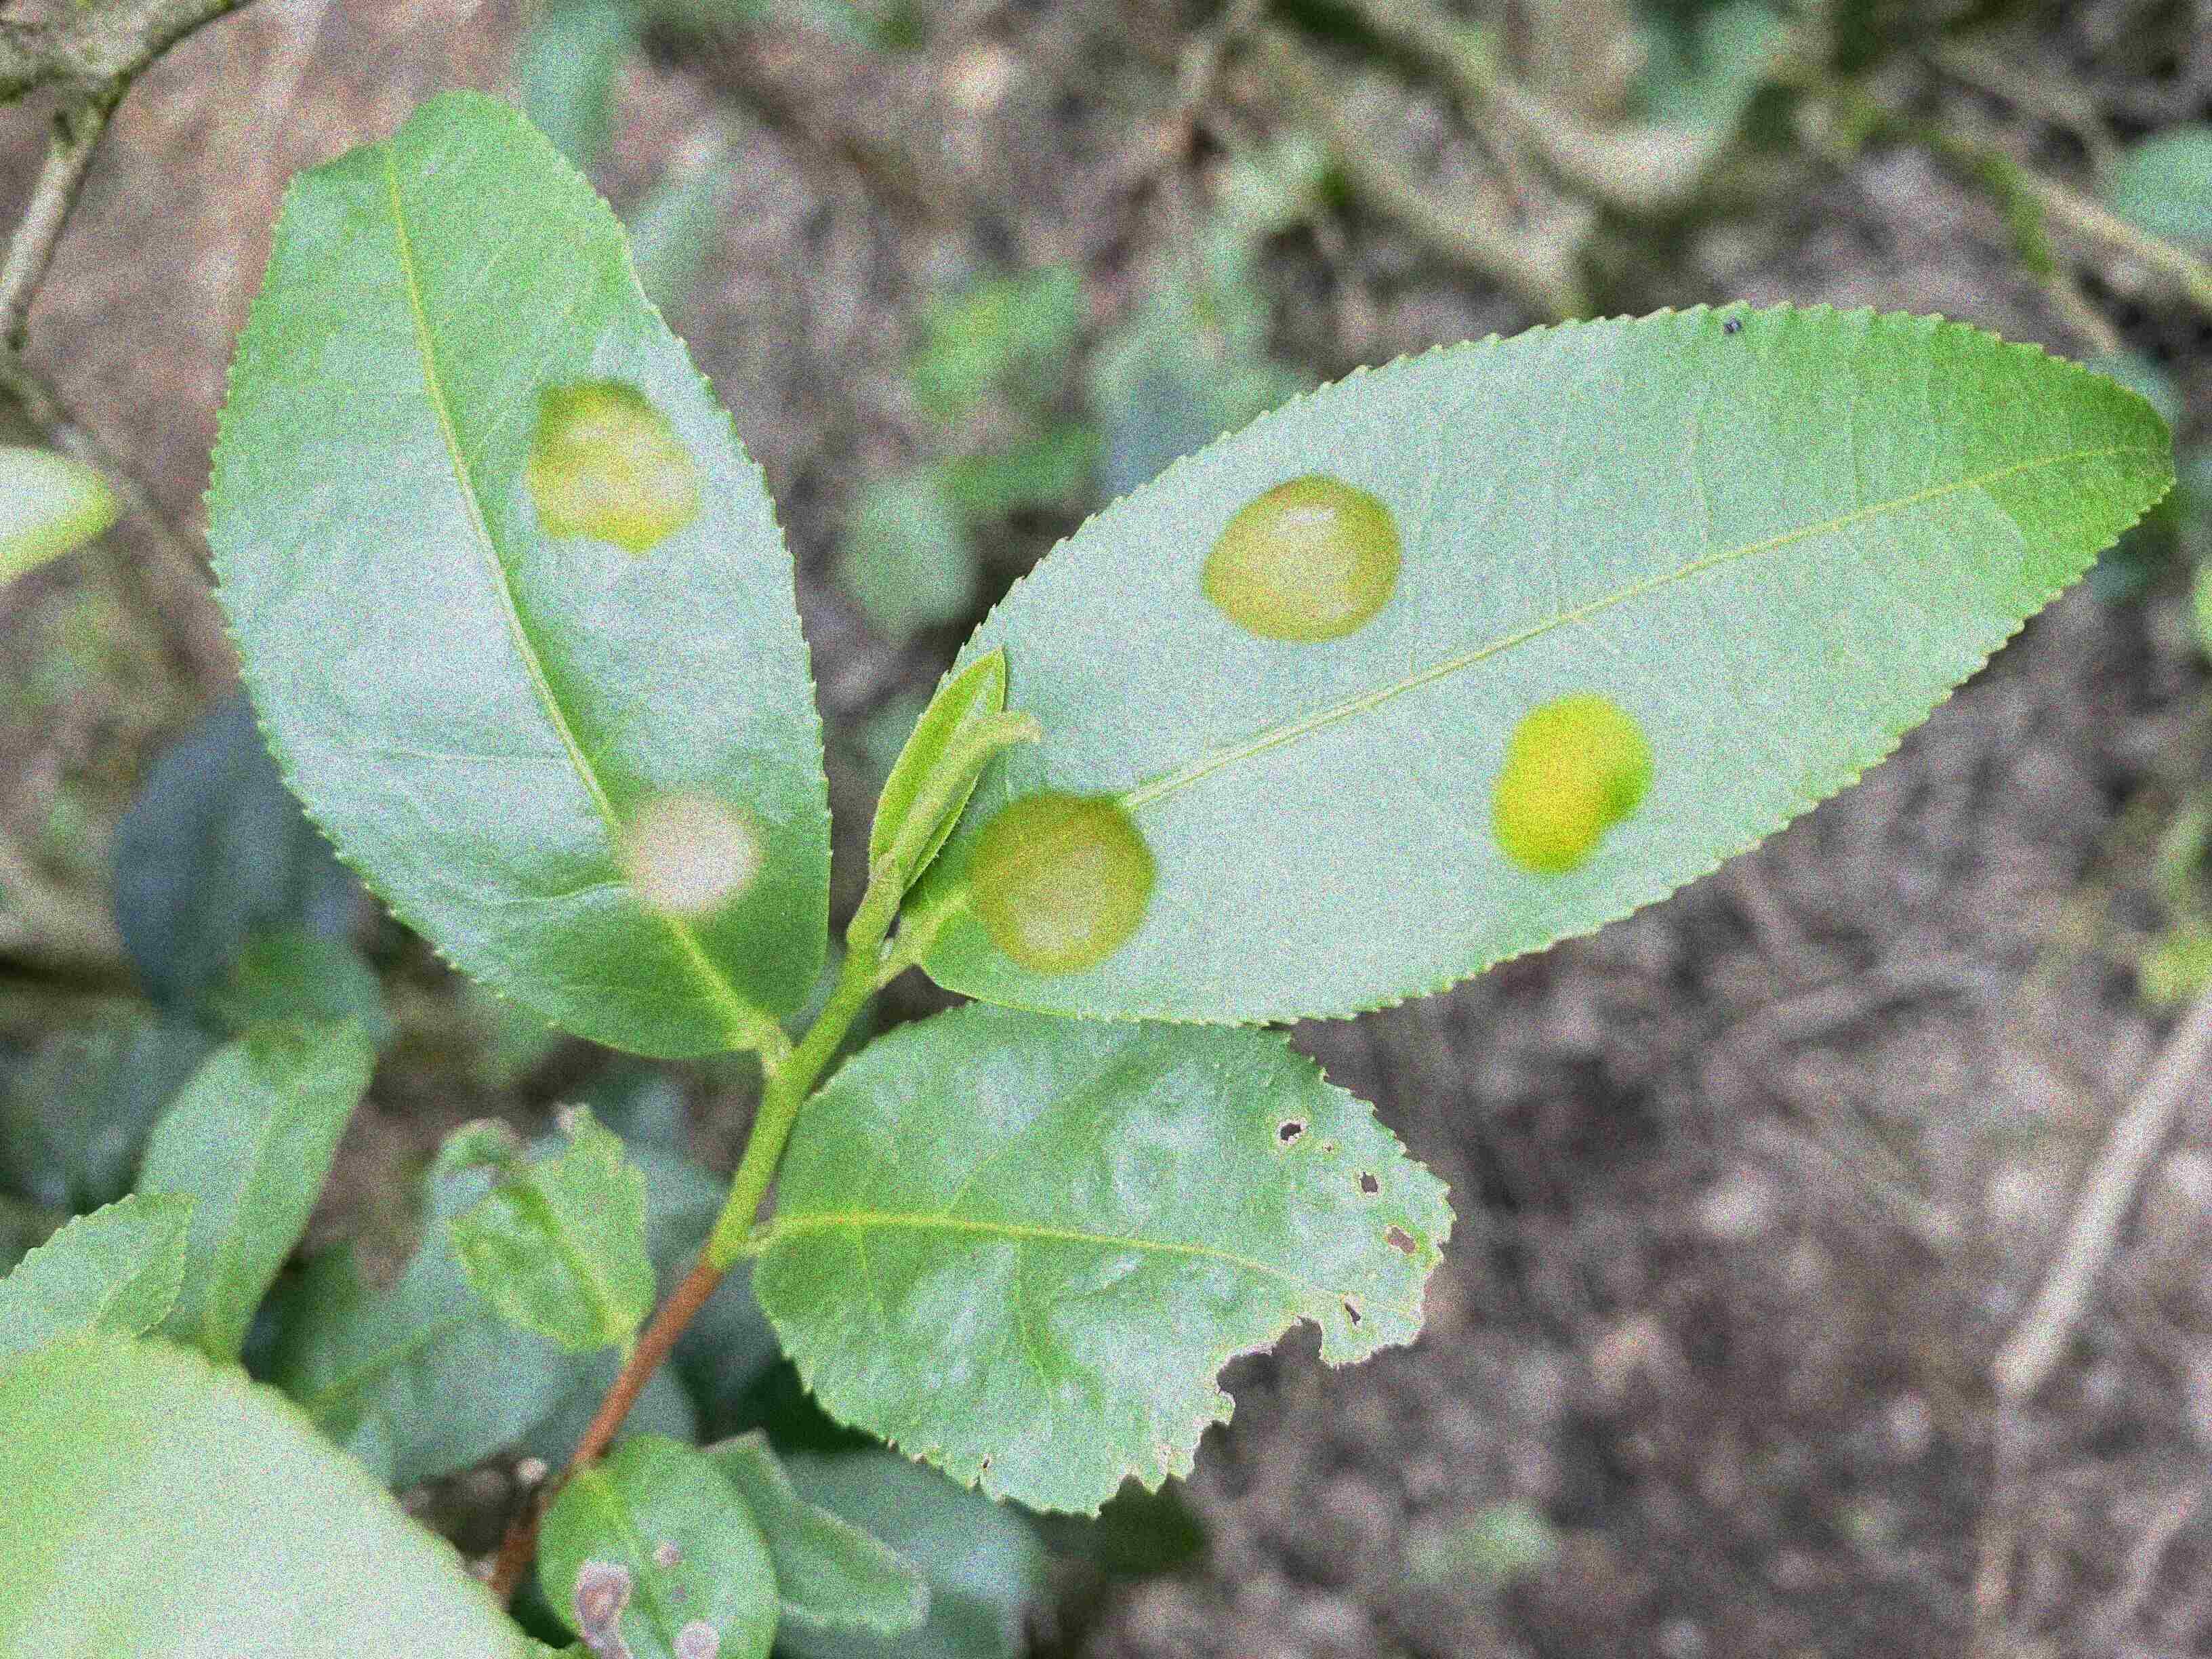chabing_high: (897, 298, 2181, 1028), (199, 84, 836, 1063)
chihuo_high: (749, 1000, 1461, 1521), (430, 1098, 658, 1349)
tanju_high: (531, 1425, 777, 1657)
